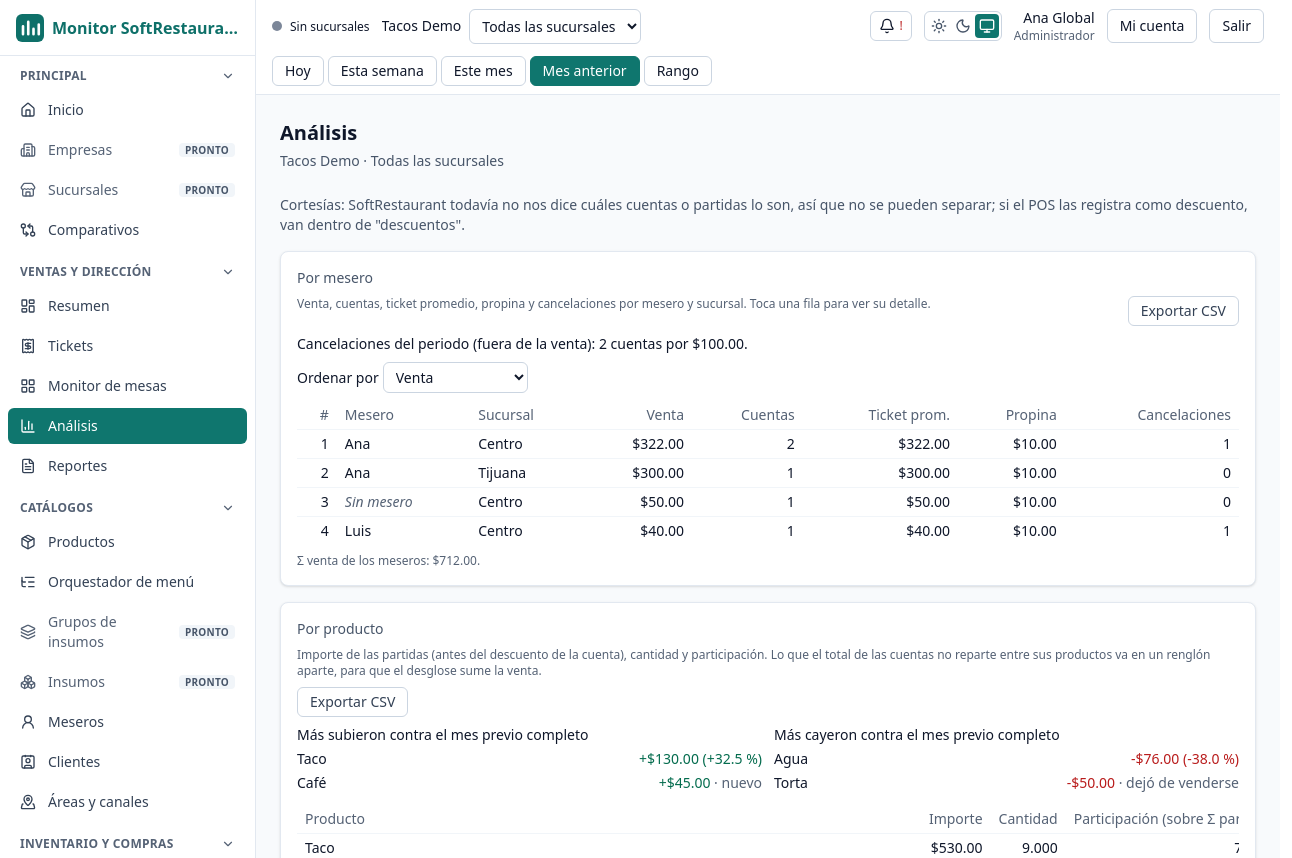
Test: meseros › cancelados fuera de la venta y visibles aparte; detalle al tocar la fila
The width and height of the screenshot is (1292, 858).
Check: the table with test id "tabla-meseros" is shown, box [297,401,1239,545]
Check: the text "Sin mesero" is shown, box [345,492,413,511]
Click the 1st row with test id "fila-mesero": (768, 444) [297,430,1239,458]
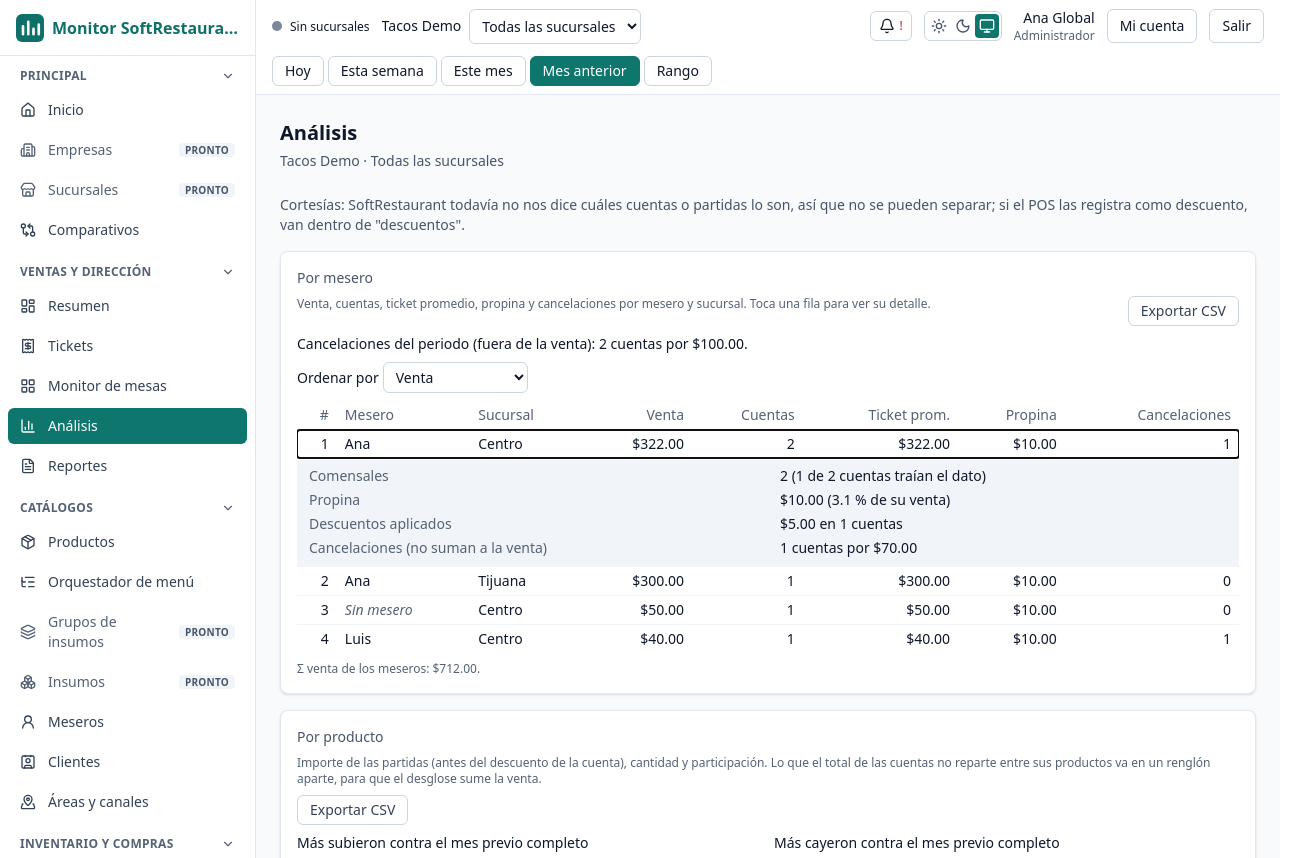
Check: the text with test id "nota-cortesias" shows "Cortesías", box [280,195,1248,234]
Check: the element with test id "detalle-mesero" shows "1 cuentas por $70.00", box [309,466,986,557]
Check: the element with test id "detalle-mesero" shows "$10.00 (3.1 % de su venta)", box [309,466,986,557]
